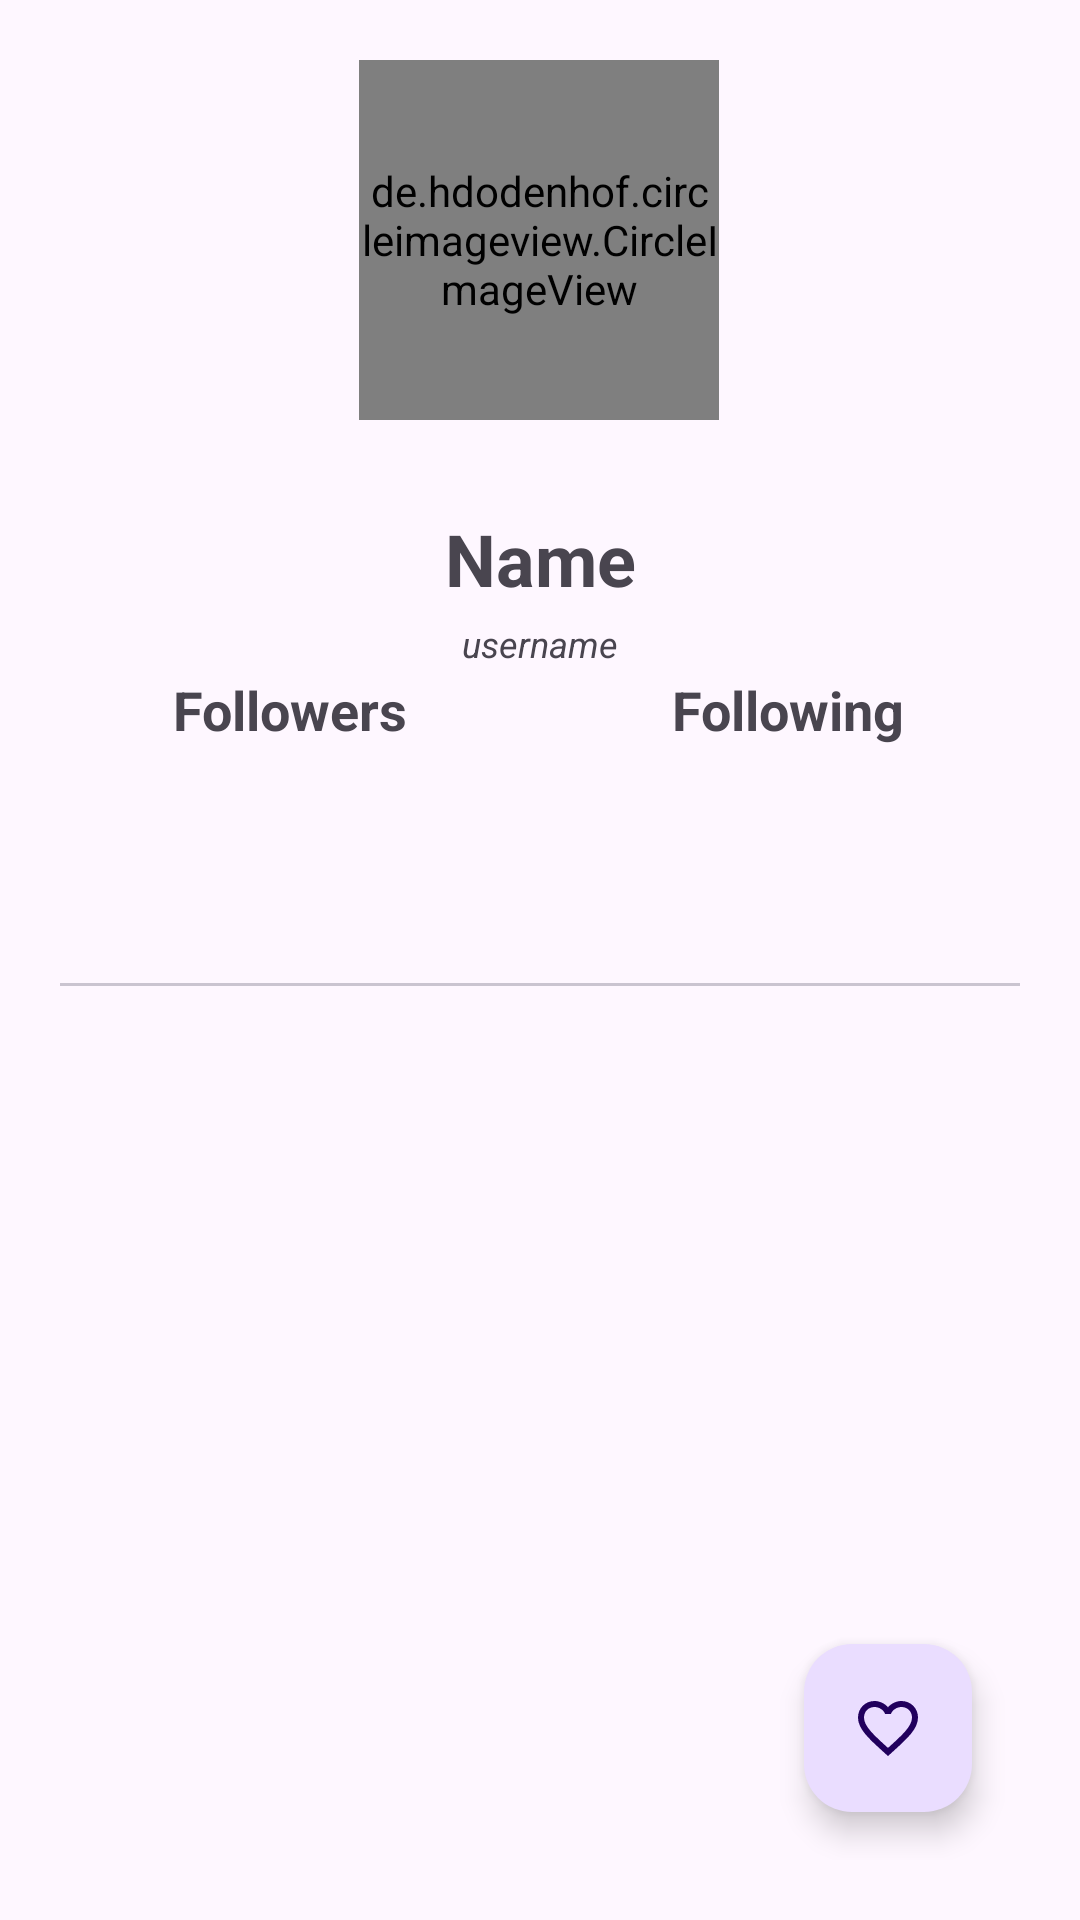

Point at icon controls on the screen. Image size 1080*1920, points as point (x, y).
favorite border: point (888, 1728)
